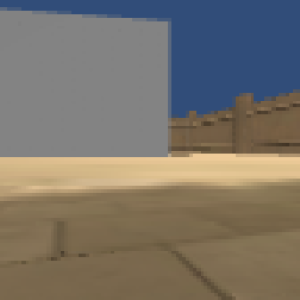wall: (1, 8, 174, 159)
